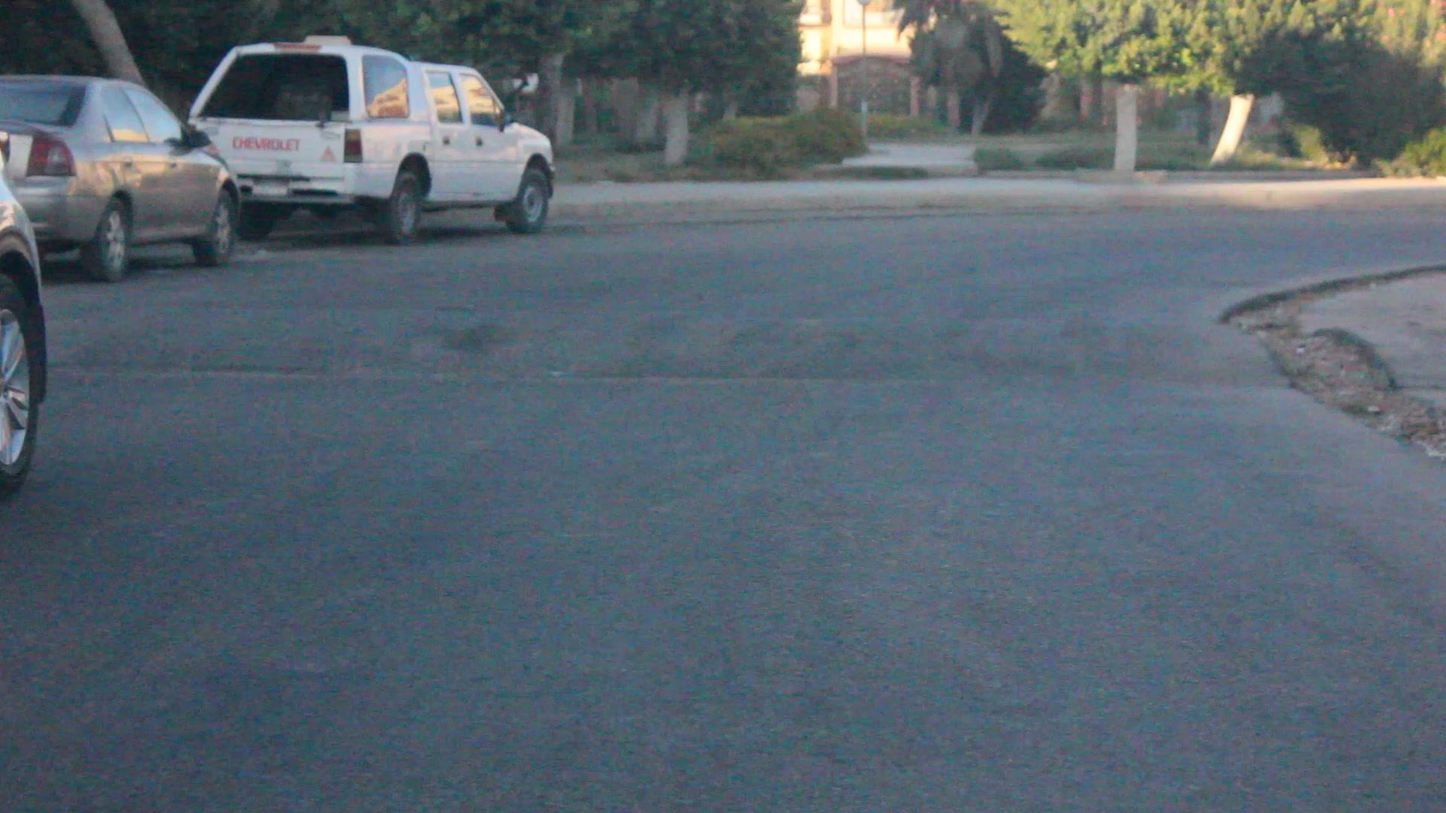Bump: (72, 286, 1290, 399)
